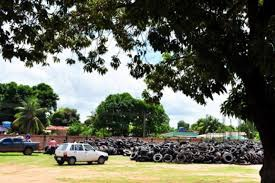tire: (175, 152, 187, 164), (222, 152, 234, 163), (152, 153, 163, 162), (163, 154, 175, 162), (121, 148, 133, 155), (112, 139, 123, 146)
